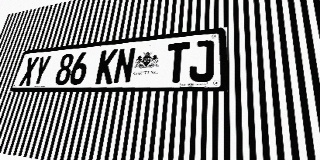6: (68, 51, 91, 85)
8: (54, 53, 76, 85)
J: (189, 39, 214, 82)
K: (95, 49, 118, 84)
N: (112, 47, 136, 84)
T: (165, 42, 190, 83)
X: (19, 56, 39, 86)
Y: (31, 55, 52, 86)
